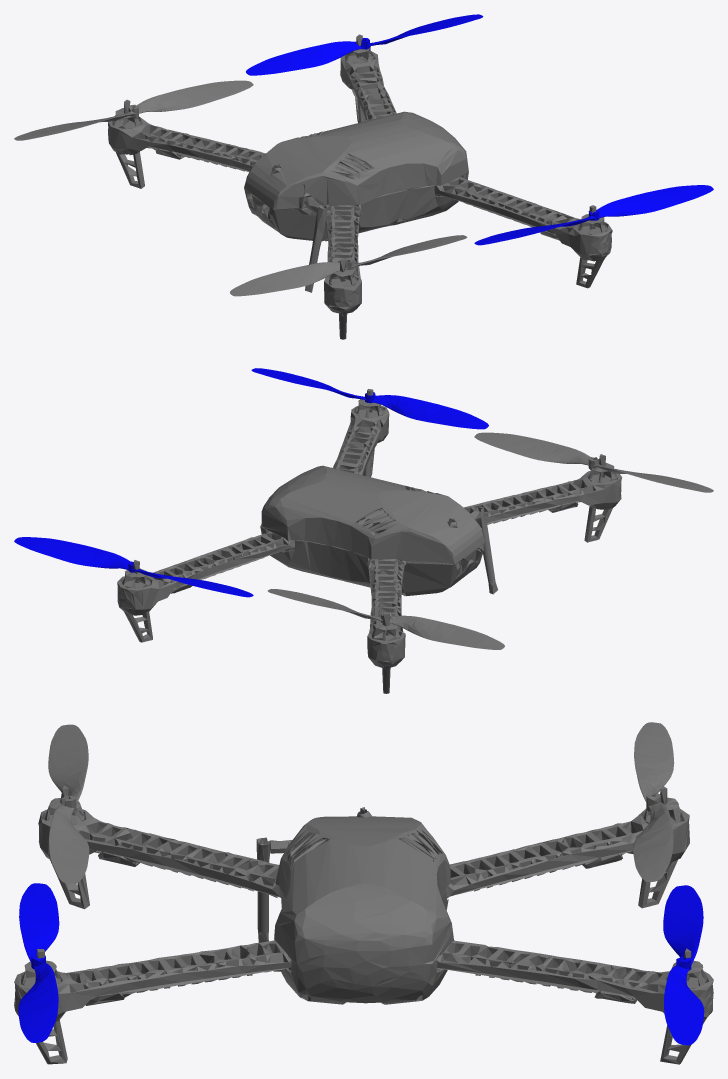
File: iris.glb
3 views of the same model, one above another, from view 1: azimuth 30°, elevation 25°; view 2: azimuth 150°, elevation 25°; view 3: azimuth 270°, elevation 25° (orthographic). The views are drawn at different scales.
Parts seen in each view (by area): view 1: base_link_v0, rotor_1_v0, rotor_2_v0, rotor_0_v0, rotor_3_v0; view 2: base_link_v0, rotor_3_v0, rotor_2_v0, rotor_0_v0, rotor_1_v0; view 3: base_link_v0, rotor_1_v0, rotor_3_v0, rotor_2_v0, rotor_0_v0.
Part boxes in pixels (x1=…): base_link_v0: x1=108, y1=34, x2=612, y2=339; rotor_1_v0: x1=14, y1=80, x2=253, y2=140; rotor_2_v0: x1=246, y1=14, x2=483, y2=75; rotor_0_v0: x1=474, y1=185, x2=713, y2=245; rotor_3_v0: x1=230, y1=235, x2=467, y2=296; base_link_v0: x1=117, y1=389, x2=622, y2=693; rotor_3_v0: x1=474, y1=432, x2=713, y2=492; rotor_2_v0: x1=14, y1=537, x2=253, y2=597; rotor_0_v0: x1=251, y1=368, x2=488, y2=429; rotor_1_v0: x1=267, y1=589, x2=504, y2=649; base_link_v0: x1=14, y1=785, x2=713, y2=1064; rotor_1_v0: x1=633, y1=722, x2=674, y2=881; rotor_3_v0: x1=48, y1=724, x2=89, y2=884; rotor_2_v0: x1=663, y1=885, x2=704, y2=1045; rotor_0_v0: x1=18, y1=883, x2=59, y2=1042.
Size of the model in its own units: 0.5214 by 0.1128 by 0.4781.
